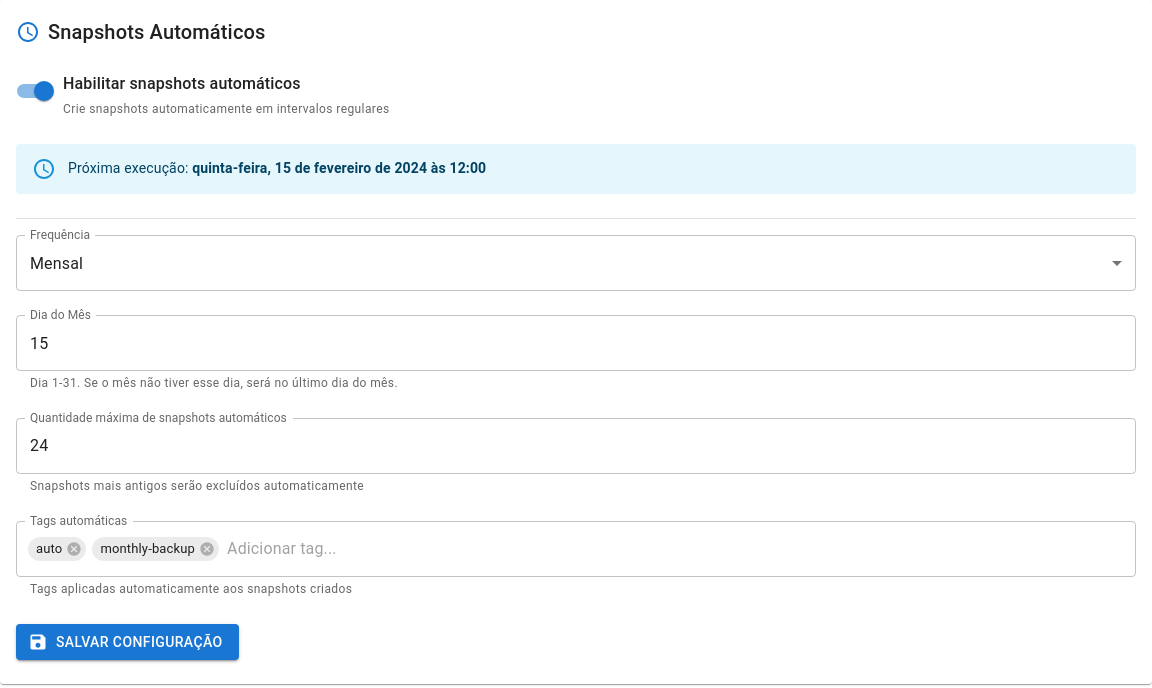
Test: SnapshotScheduleForm › Save Actions › saves configuration successfully
Click the button "Salvar Configuração" at (127, 642), box [16, 624, 239, 660]
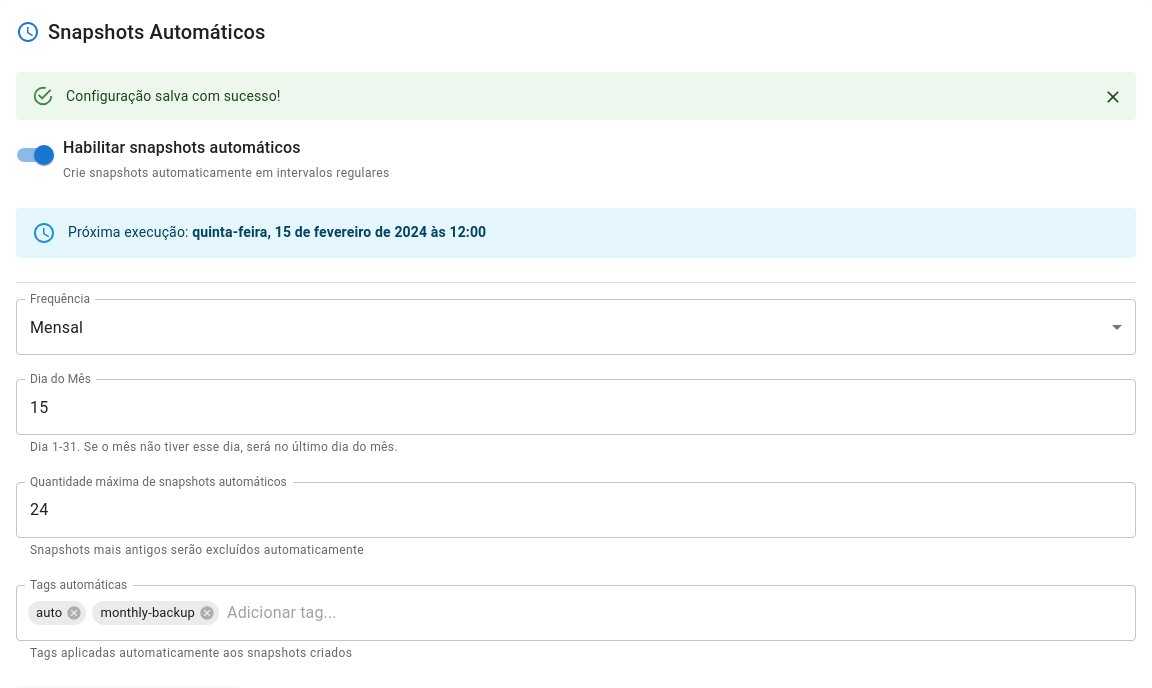
Check: the text "Configuração salva com sucesso!" is shown, box [66, 88, 281, 104]
